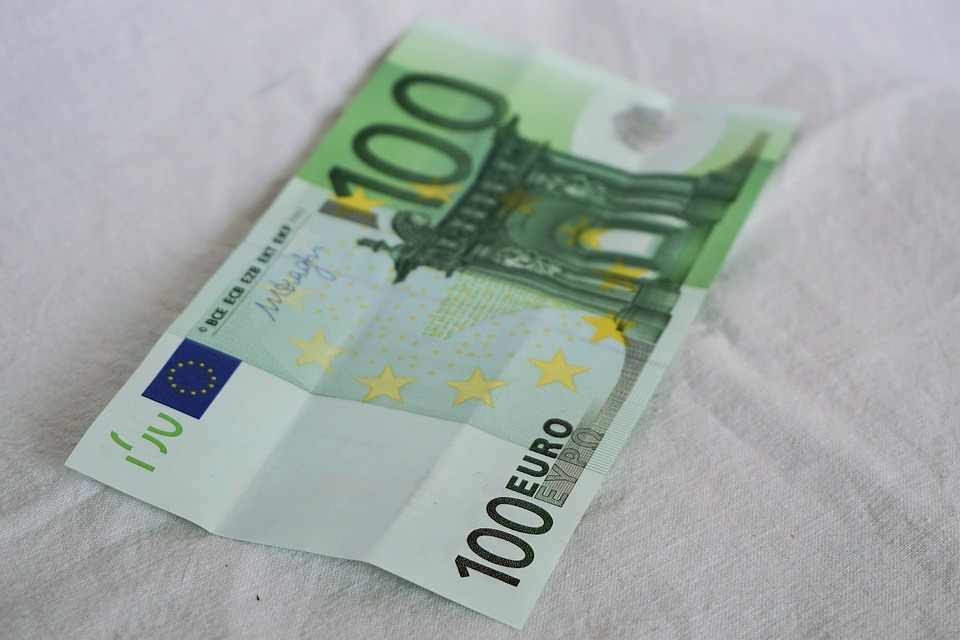billete: (60, 1, 815, 636)
